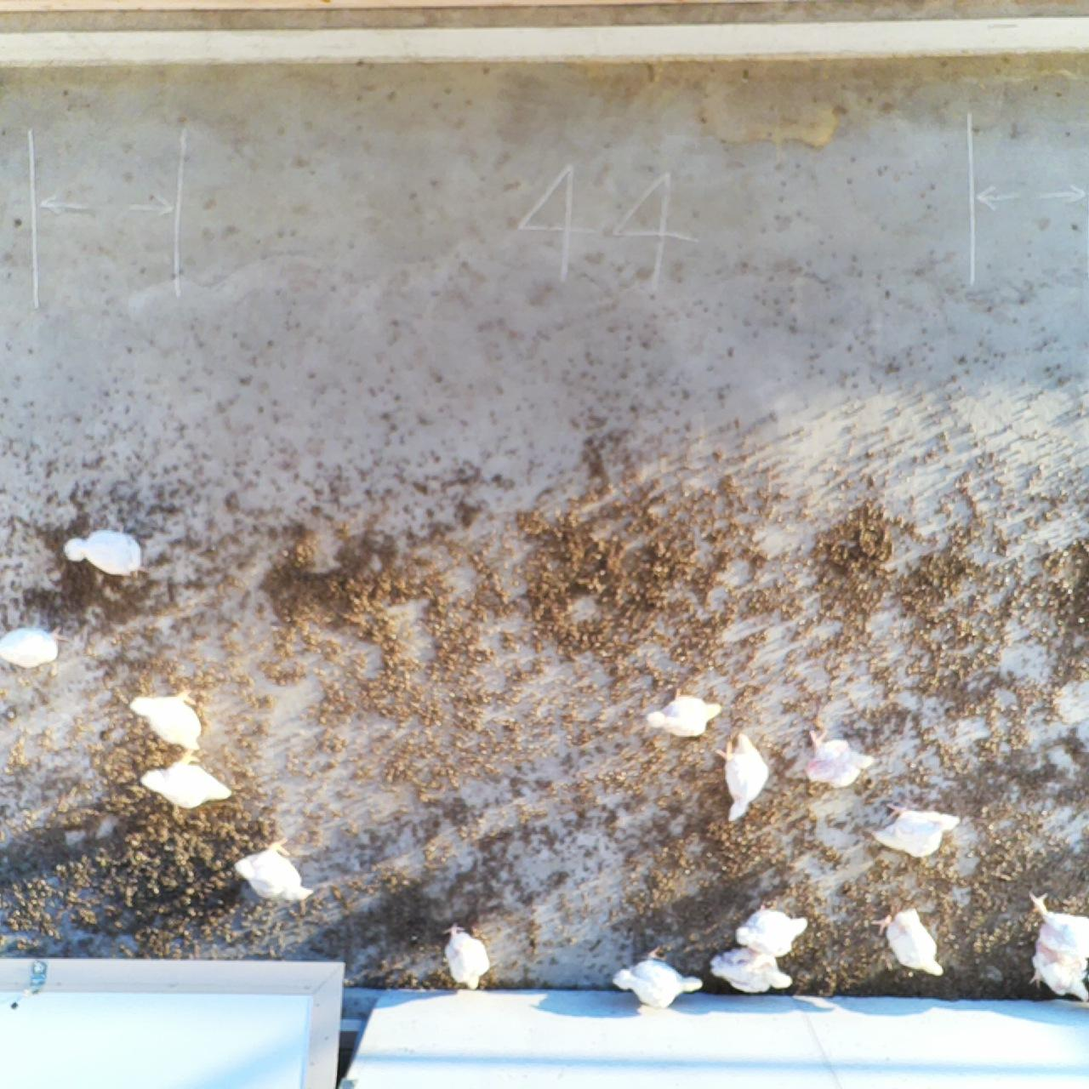chicken: (611, 939, 704, 1012), (137, 746, 234, 810), (867, 801, 965, 863), (232, 834, 315, 907), (712, 730, 774, 827), (61, 519, 160, 579), (127, 682, 209, 754), (869, 906, 946, 982), (800, 722, 878, 795), (1027, 887, 1089, 968), (643, 683, 726, 741), (1021, 938, 1089, 1008), (708, 942, 794, 996), (731, 901, 810, 959), (439, 916, 493, 992), (0, 621, 73, 671)
